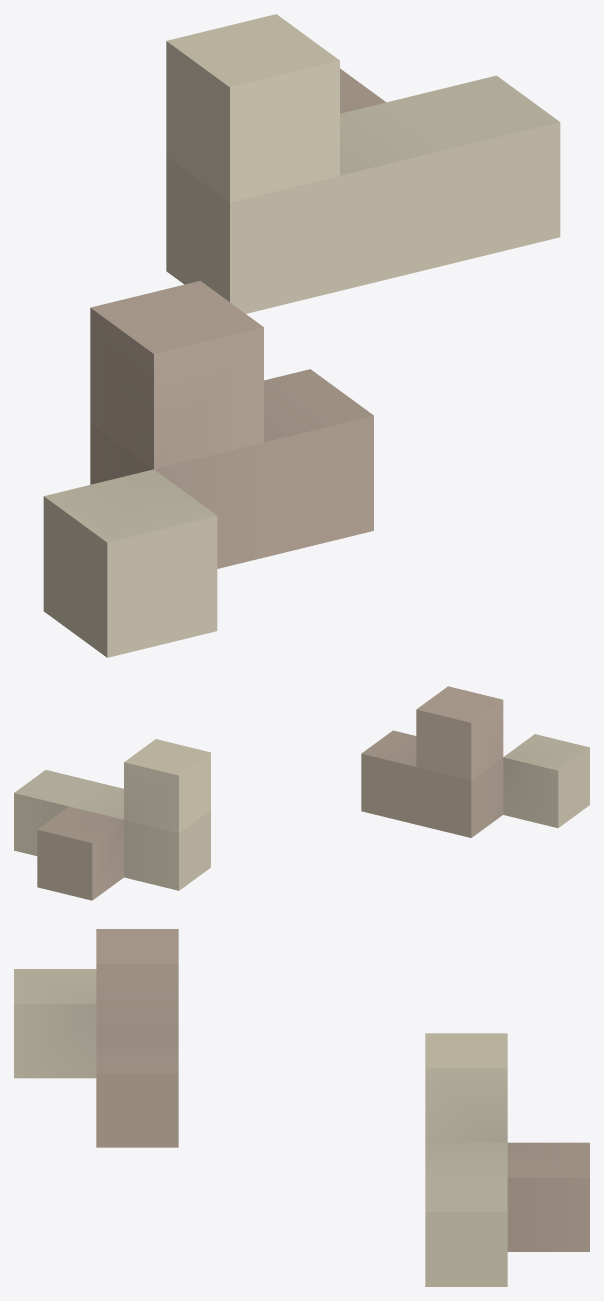
The model's file is decor_pebbles_a.glb.
3 renders of one model, top to bottom at view 1: azimuth 30°, elevation 25°; view 2: azimuth 150°, elevation 25°; view 3: azimuth 270°, elevation 25°, orthographic. The views are drawn at different scales.
Visible parts, largest first — view 1: decor_pebbles_a; view 2: decor_pebbles_a; view 3: decor_pebbles_a.
Part boxes in pixels (bbox=[...]): decor_pebbles_a: bbox=[43, 14, 560, 657]; decor_pebbles_a: bbox=[14, 686, 589, 900]; decor_pebbles_a: bbox=[14, 929, 589, 1286].
Bounding box in the file's own units: 0.4375 × 0.125 × 0.4375.
